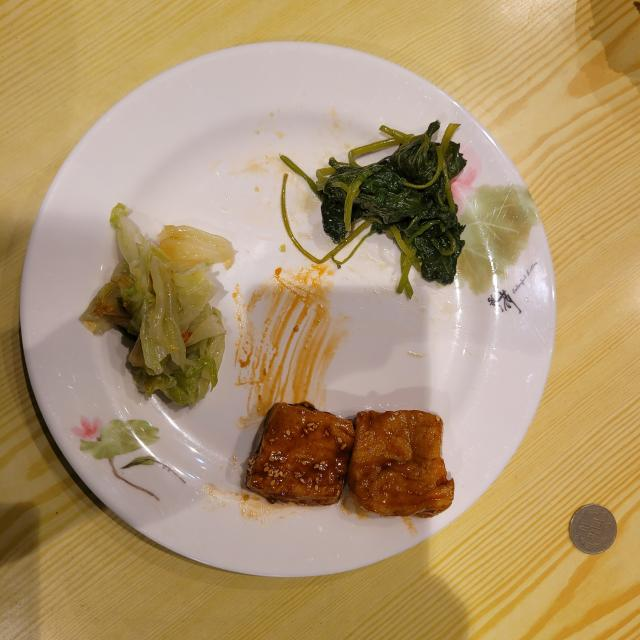cabbage: (80, 204, 234, 405)
coin: (569, 504, 618, 554)
creamy tofu: (245, 402, 454, 518)
sweet potato leaves: (280, 121, 466, 299)
